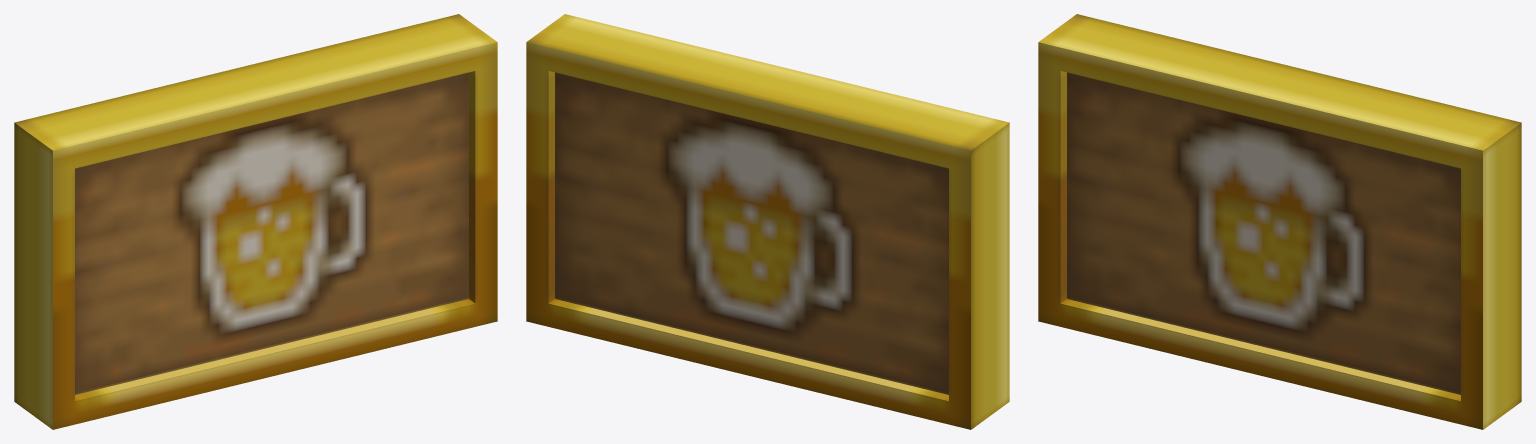
The model's file is Poly_Board_Sign_07.obj.
3 renders of one model, left to right at view 1: azimuth 30°, elevation 25°; view 2: azimuth 150°, elevation 25°; view 3: azimuth 330°, elevation 25°, orthographic.
Visible parts, largest first — view 1: Cube; view 2: Cube; view 3: Cube.
Boxes of the visible parts, x1,y1,x2,y2 form: Cube: (14,14,497,429); Cube: (526,14,1009,429); Cube: (1038,14,1521,429).
Size of the model in its own units: 1 by 0.6 by 0.15.
1 material, 1 textured.
